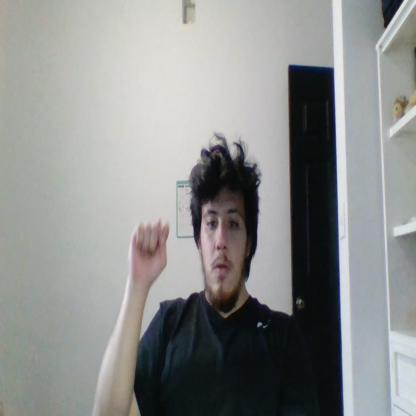T: (126, 217, 170, 286)
